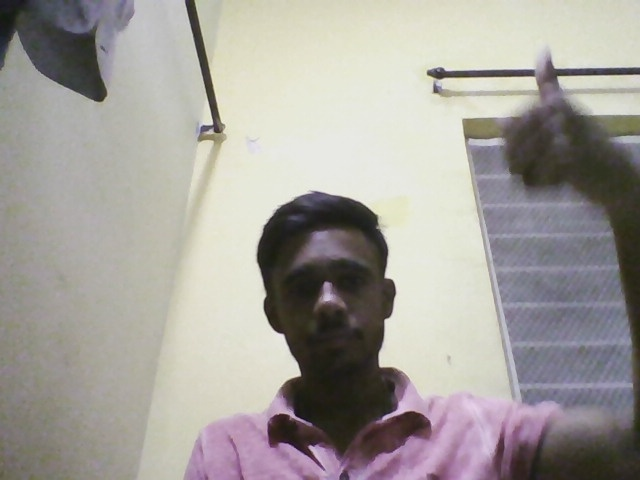yes: (496, 39, 616, 205)
